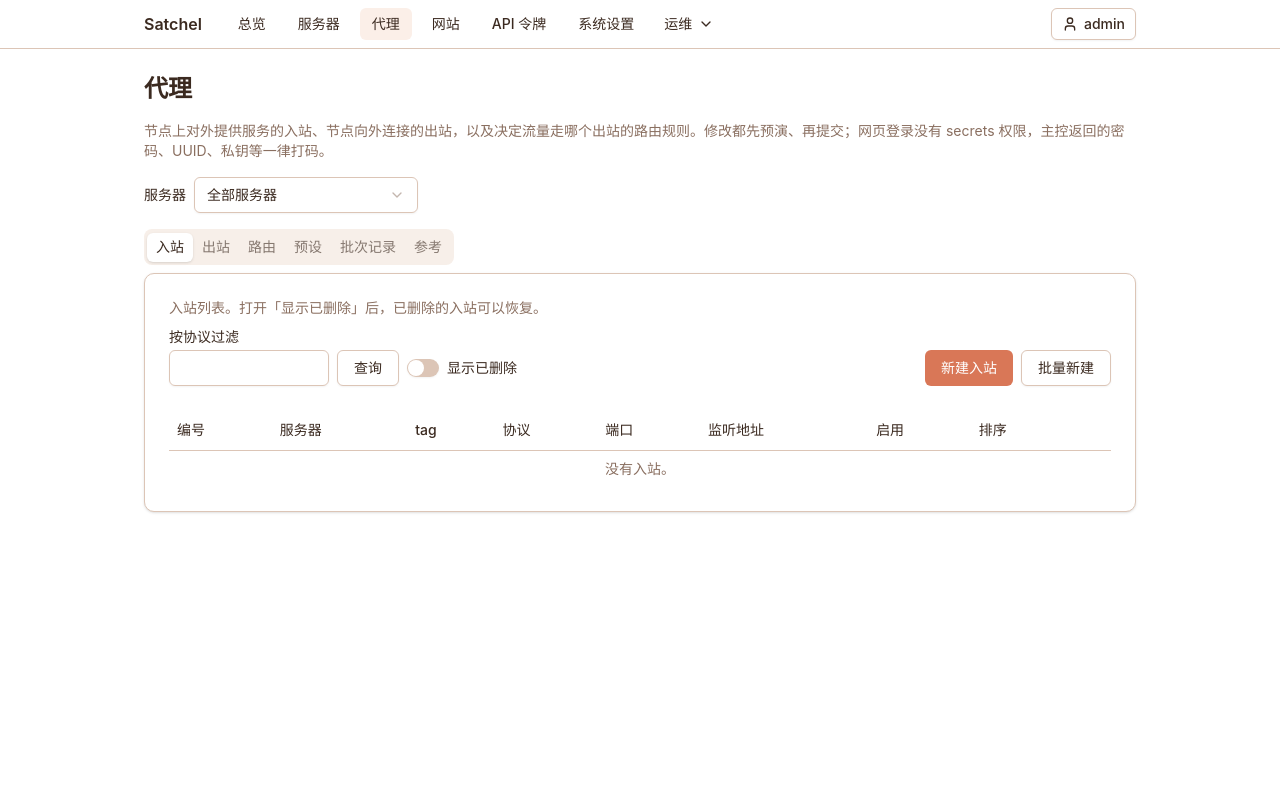
代理页：预设 › 第一次打开「预设」之前不请求预设；打开后列出内置与已保存的预设
Expected: the panel "入站" is shown, [144, 273, 1136, 512]
Click the tab "预设": (308, 247) [285, 232, 331, 262]
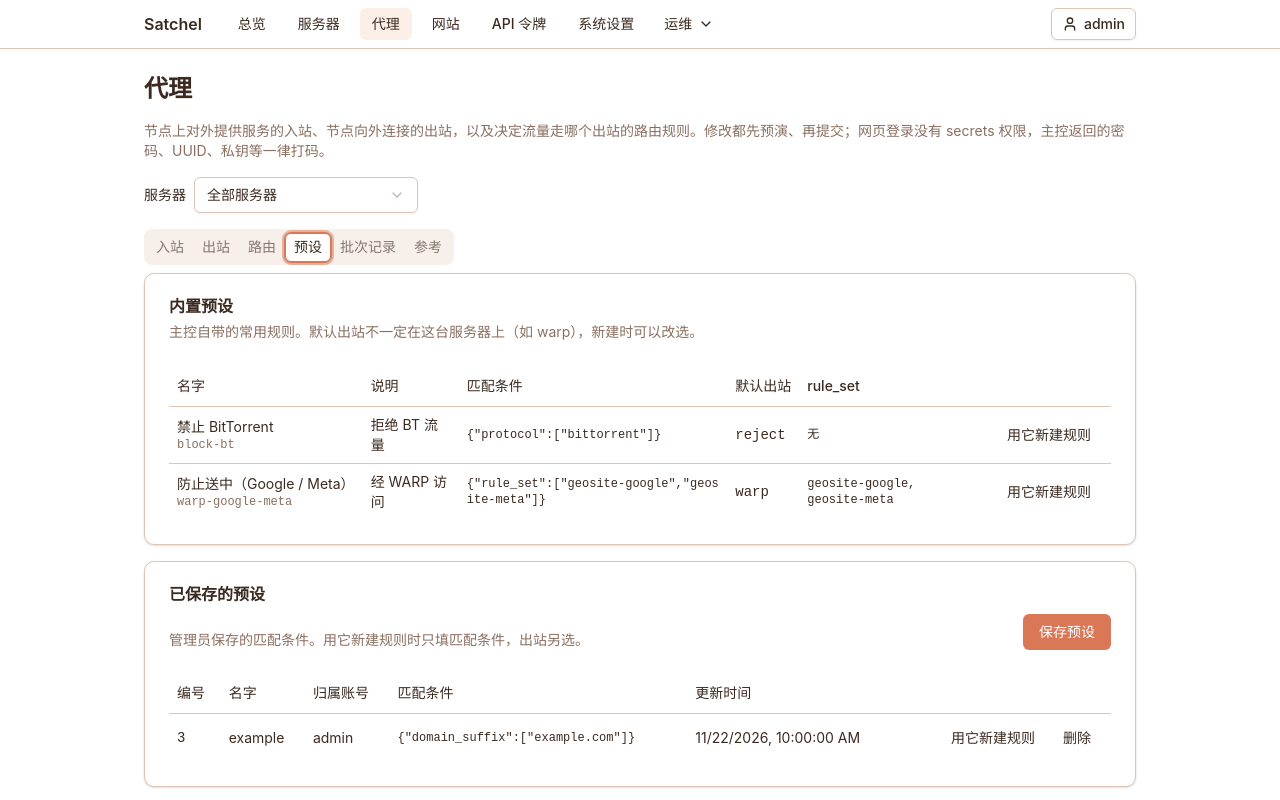
Result: the text "{\"protocol\":[\"bittorrent\"]}" is shown at [459, 406, 727, 463]
Result: the text "reject" is shown at [727, 406, 799, 463]
Result: the text "geosite-google, geosite-meta" is shown at [799, 463, 987, 520]
